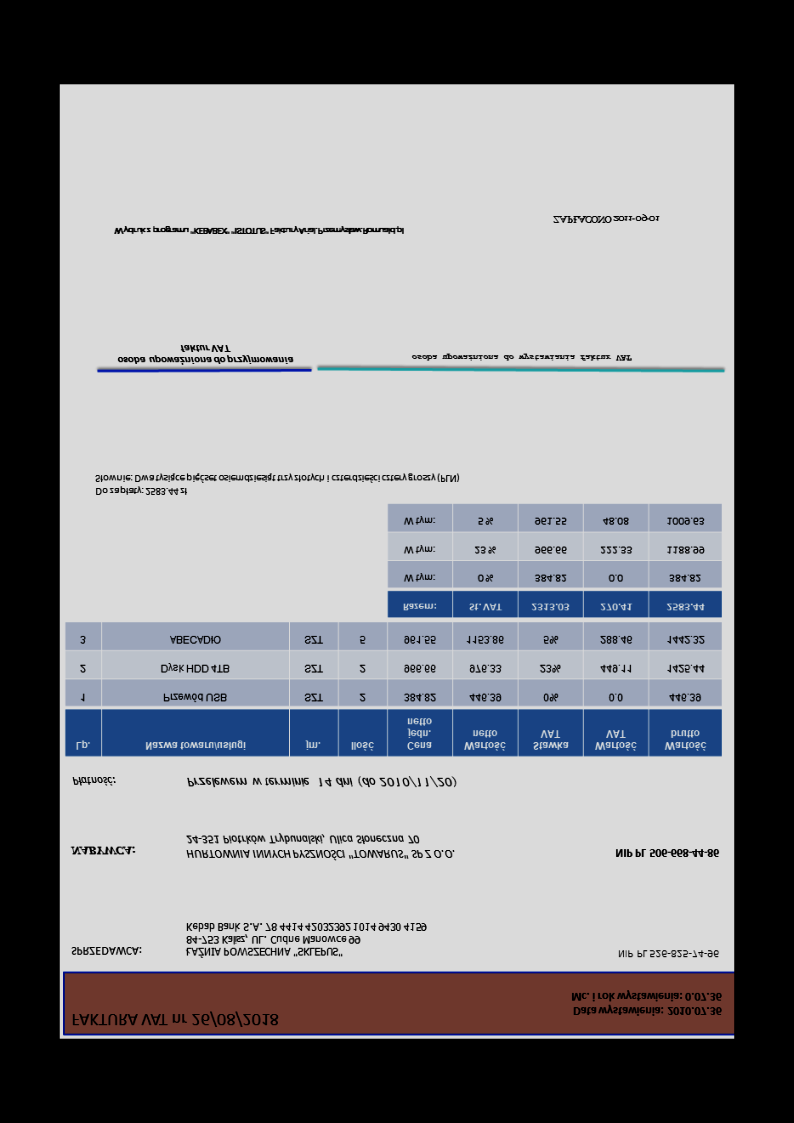Table: (64, 621, 723, 758), (386, 502, 723, 619)
TextBox: (94, 471, 462, 499), (184, 921, 429, 961), (184, 833, 456, 862), (569, 989, 725, 1018), (70, 1009, 281, 1029), (116, 343, 297, 366), (185, 775, 459, 789), (111, 224, 406, 237), (409, 352, 634, 364), (613, 846, 722, 860), (616, 947, 722, 961), (551, 213, 662, 226), (69, 945, 144, 959), (69, 844, 139, 858), (70, 775, 116, 788)
